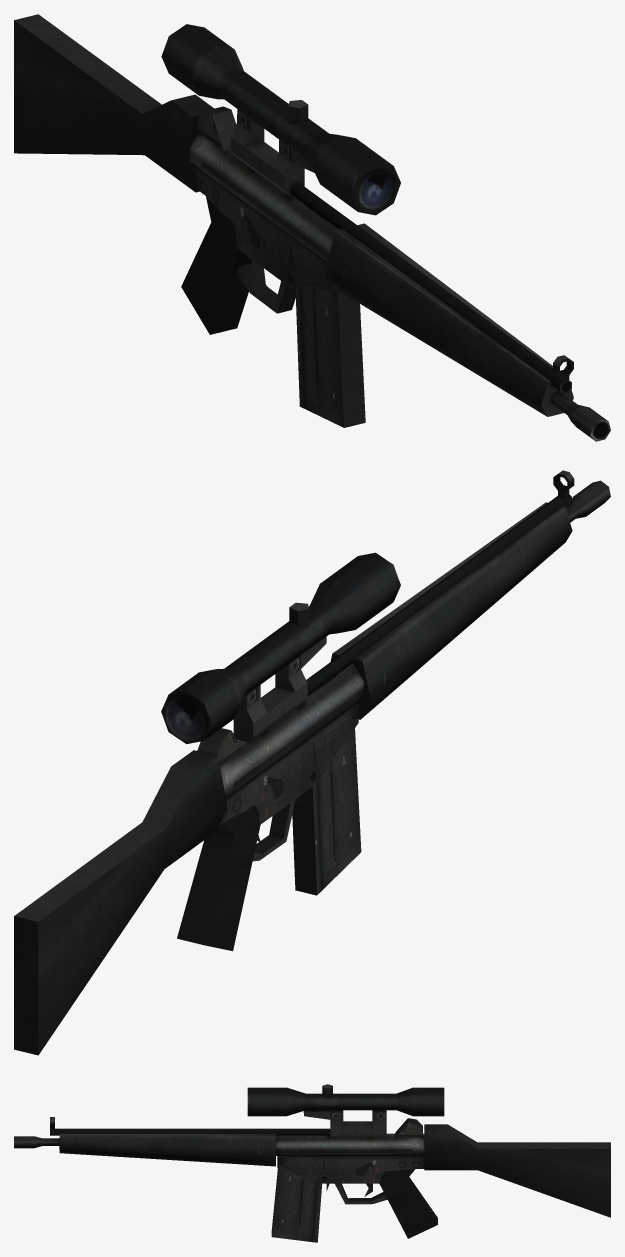
3 renders of one model, top to bottom at view 1: azimuth 30°, elevation 25°; view 2: azimuth 150°, elevation 25°; view 3: azimuth 270°, elevation 25°, orthographic. The views are drawn at different scales.
Visible parts, largest first — view 1: SMDImporter.Mesh.w_snip_g3sg1; view 2: SMDImporter.Mesh.w_snip_g3sg1; view 3: SMDImporter.Mesh.w_snip_g3sg1.
Part boxes in pixels (left/top/right/bottom): SMDImporter.Mesh.w_snip_g3sg1: left=14, top=14, right=610, bottom=441; SMDImporter.Mesh.w_snip_g3sg1: left=14, top=470, right=610, bottom=1055; SMDImporter.Mesh.w_snip_g3sg1: left=14, top=1084, right=610, bottom=1242.
Bounding box in the file's own units: 5.33 × 29.61 × 105.
